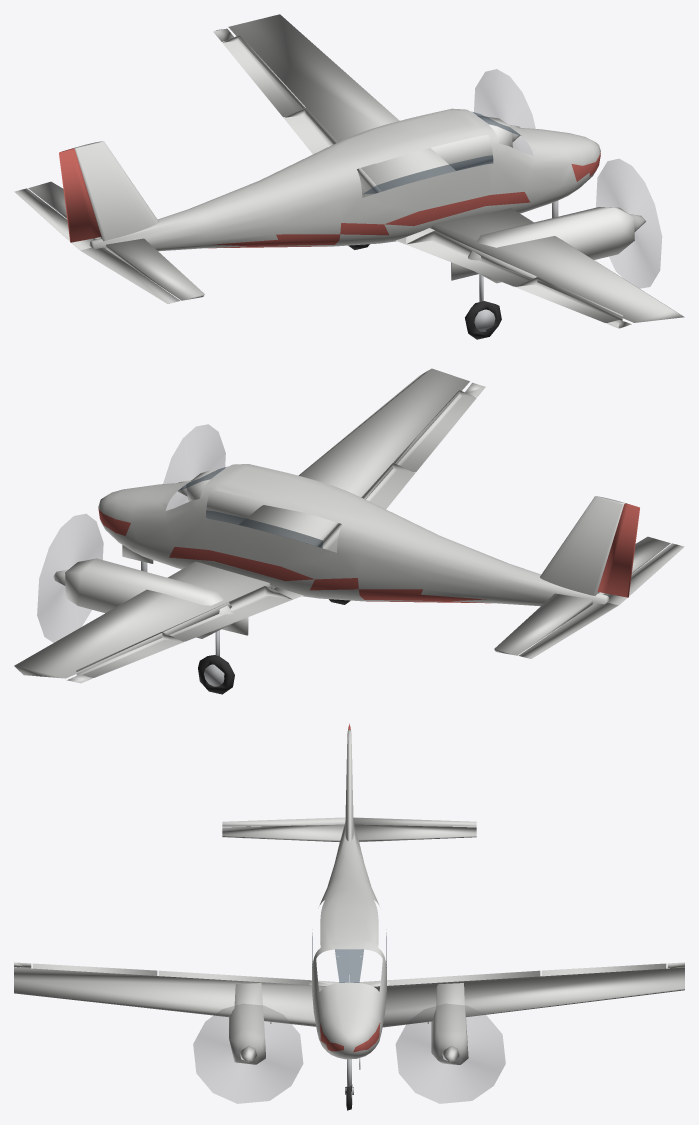
The model's file is duet_lod2.glb.
3 renders of one model, top to bottom at view 1: azimuth 30°, elevation 25°; view 2: azimuth 150°, elevation 25°; view 3: azimuth 270°, elevation 25°, orthographic. The views are drawn at different scales.
Parts seen in each view (by area): view 1: fuselage, wing_L, wing_R, prop_2_disc, nacelle_2, fin, stabilizer, prop_1_disc, flap_R_1, elevator, rudder, nacelle_1 (+5 smaller); view 2: fuselage, wing_R, wing_L, nacelle_1, prop_1_disc, fin, stabilizer, prop_2_disc, elevator, rudder, flap_L_1, nacelle_2 (+5 smaller); view 3: fuselage, wing_R, wing_L, prop_2_disc, prop_1_disc, stabilizer, nacelle_1, nacelle_2, elevator, flap_L_1, glass, flap_R_1 (+3 smaller).
Boxes of the visible parts, x1,y1,x2,y2 form: fuselage: (89, 108, 600, 251); wing_L: (213, 14, 455, 191); wing_R: (395, 208, 684, 328); prop_2_disc: (596, 159, 661, 288); nacelle_2: (468, 207, 634, 283); fin: (73, 141, 158, 241); stabilizer: (28, 181, 204, 300); prop_1_disc: (474, 69, 535, 155); flap_R_1: (406, 231, 536, 286); elevator: (14, 188, 180, 303); rudder: (59, 148, 101, 242); nacelle_1: (375, 115, 512, 170); fuselage: (98, 464, 609, 606); wing_R: (239, 368, 485, 546); wing_L: (14, 561, 303, 683); nacelle_1: (65, 558, 233, 638); prop_1_disc: (37, 514, 103, 642); fin: (540, 496, 625, 595); stabilizer: (494, 536, 670, 655); prop_2_disc: (163, 424, 225, 510); elevator: (518, 543, 684, 658); rudder: (597, 503, 639, 597); flap_L_1: (162, 586, 292, 641); nacelle_2: (186, 469, 342, 524); fuselage: (312, 823, 386, 1059); wing_R: (14, 962, 348, 1026); wing_L: (349, 962, 684, 1027); prop_2_disc: (193, 1004, 302, 1103); prop_1_disc: (396, 1004, 505, 1103); stabilizer: (222, 824, 476, 841); nacelle_1: (431, 983, 468, 1064); nacelle_2: (229, 983, 265, 1064); elevator: (222, 817, 476, 826); flap_L_1: (390, 970, 540, 985); glass: (312, 933, 386, 982); flap_R_1: (158, 970, 308, 984).
Size of the model in its own units: 8.9 by 3.62 by 11.6.
